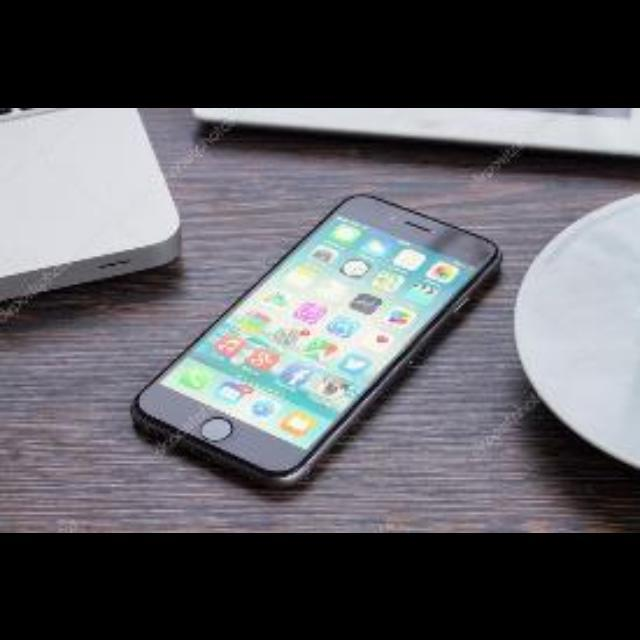Phone: (116, 190, 512, 470)
